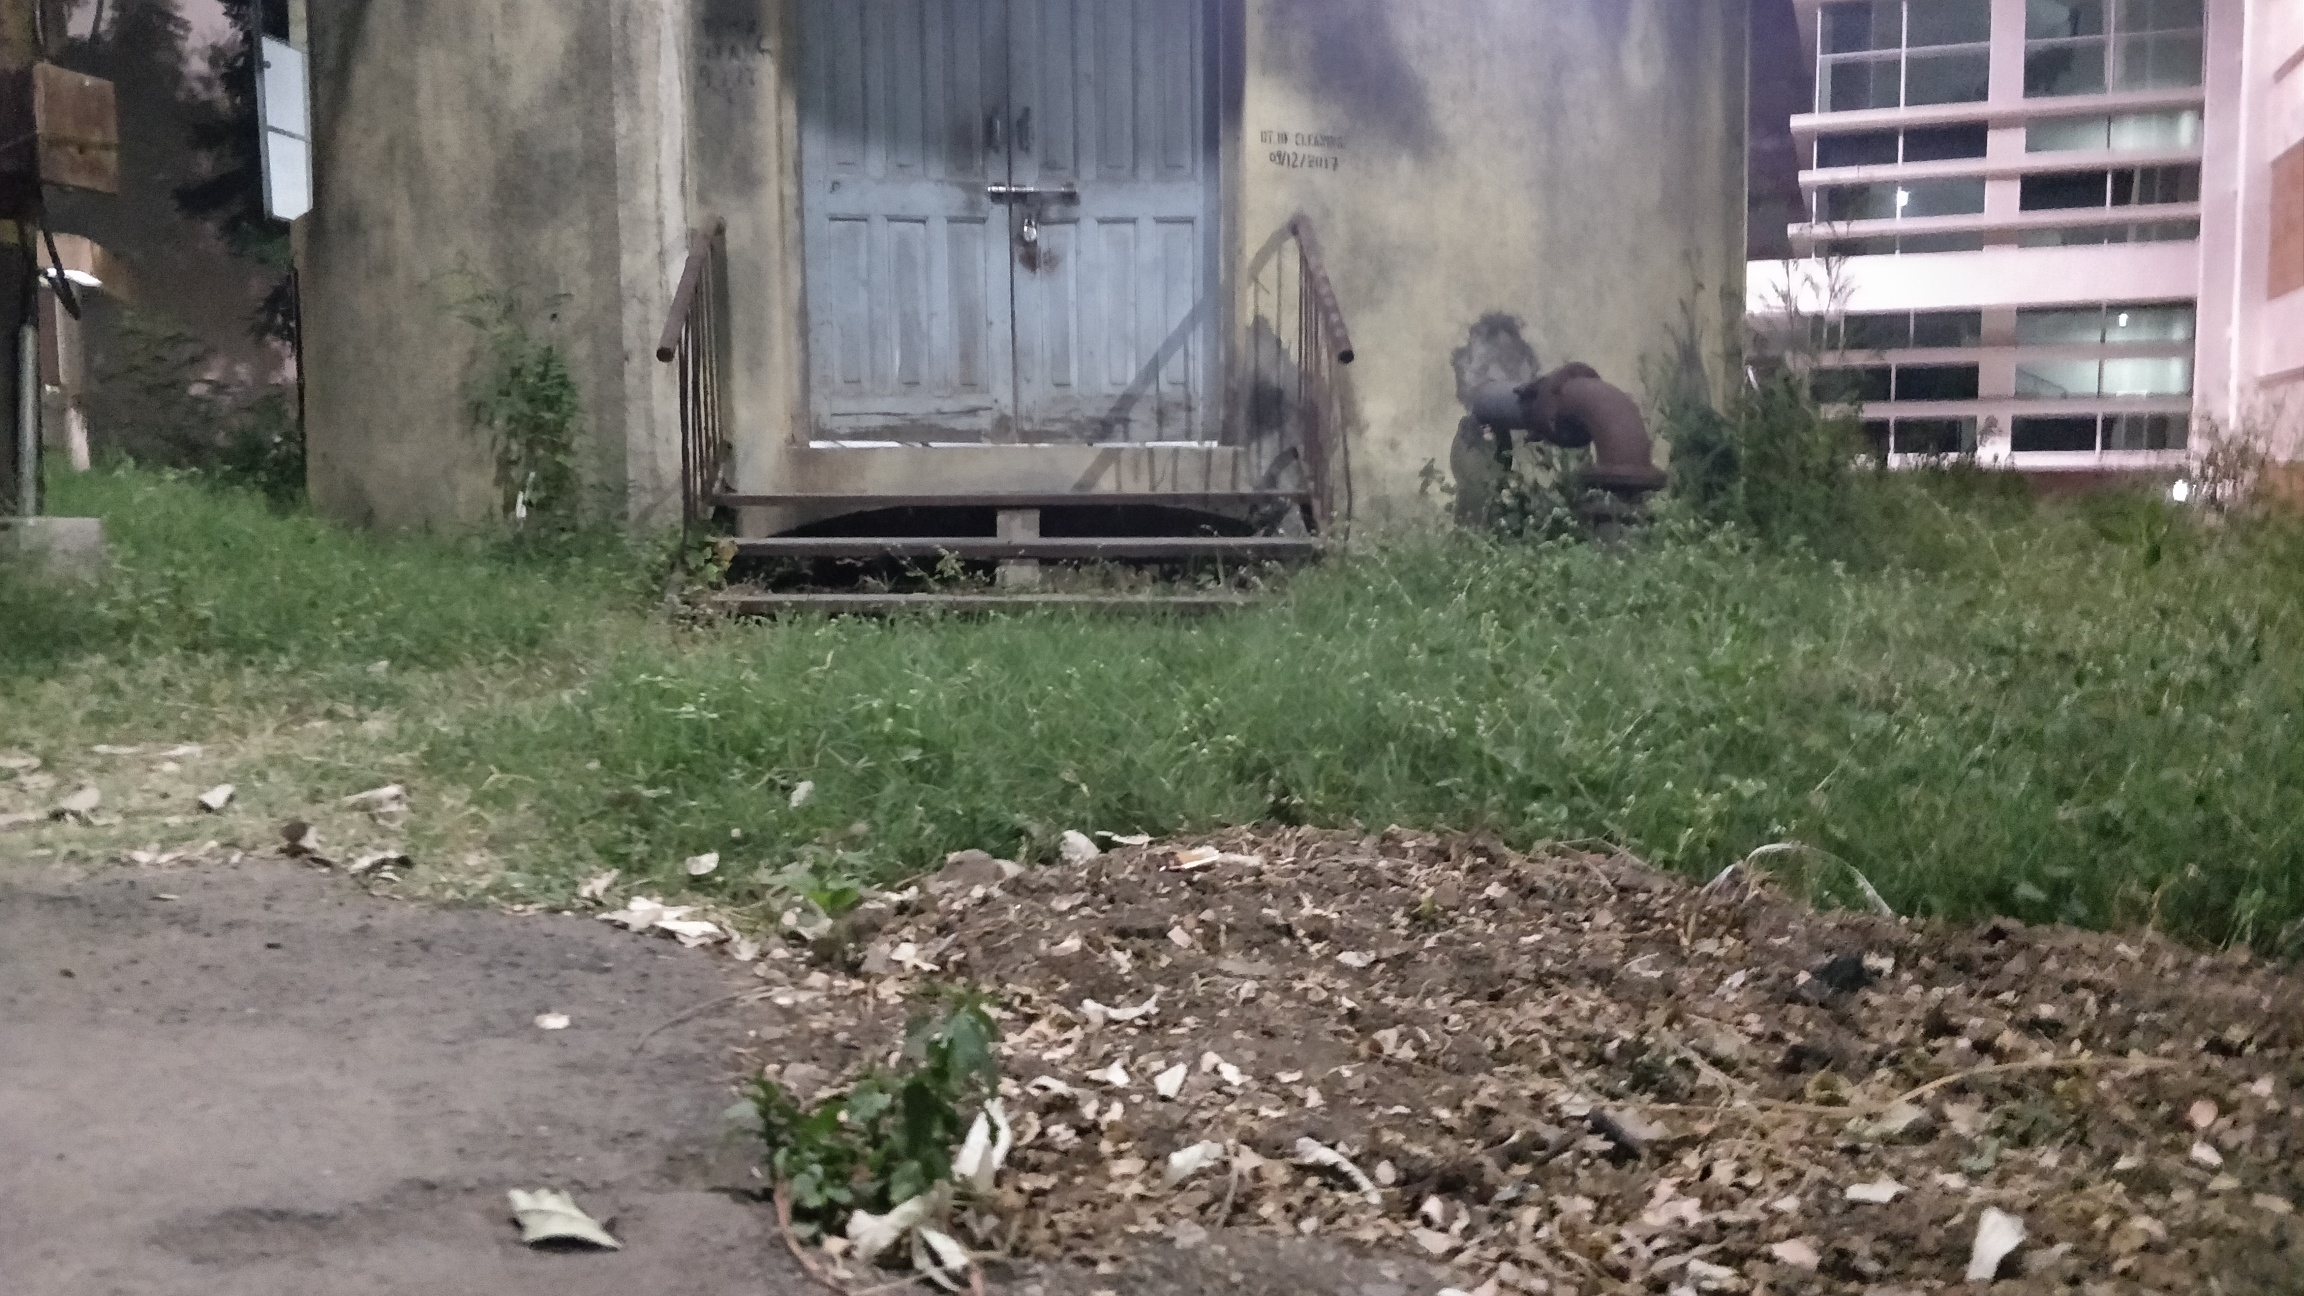stairs_up: (706, 484, 1321, 623)
